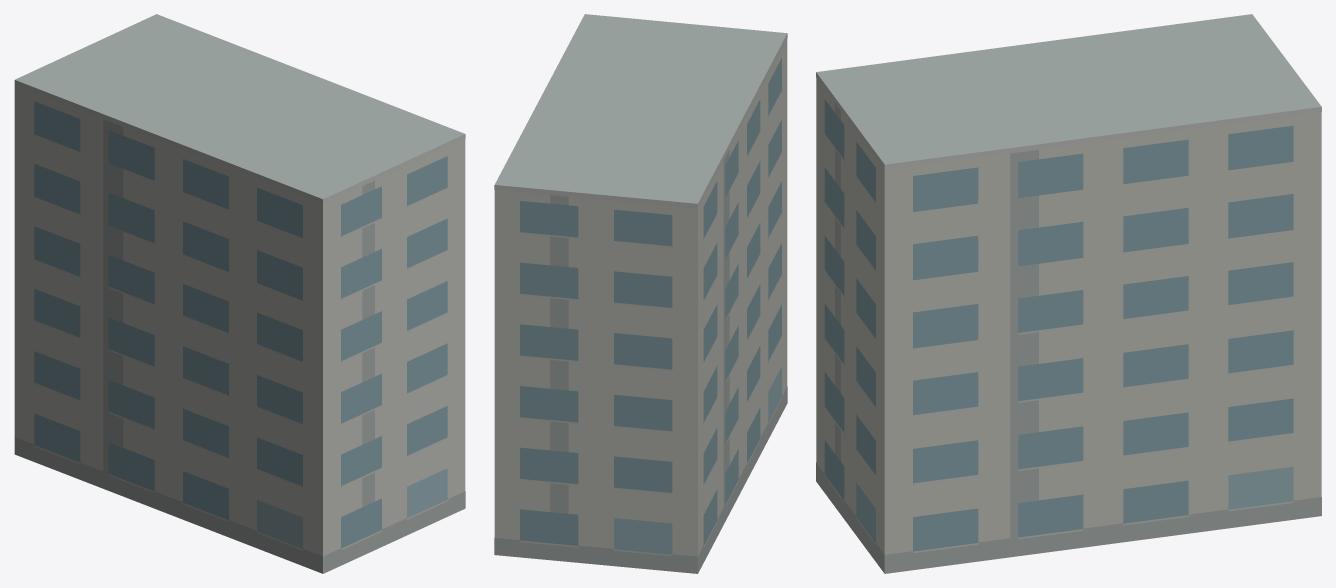
Rendered from survey-upis-33019828.glb.
3 views of the same model, side by side, from view 1: azimuth 30°, elevation 25°; view 2: azimuth 150°, elevation 25°; view 3: azimuth 270°, elevation 25° (orthographic). The views are drawn at different scales.
Visible parts, largest first — view 1: survey-upis-33019828.tmp; view 2: survey-upis-33019828.tmp; view 3: survey-upis-33019828.tmp.
Part boxes in pixels (box(x1,y1,x2,y2)): survey-upis-33019828.tmp: box(14, 14, 465, 573); survey-upis-33019828.tmp: box(494, 14, 787, 573); survey-upis-33019828.tmp: box(816, 14, 1321, 573).
Size of the model in its own units: 14.34 by 18.15 by 20.34.
